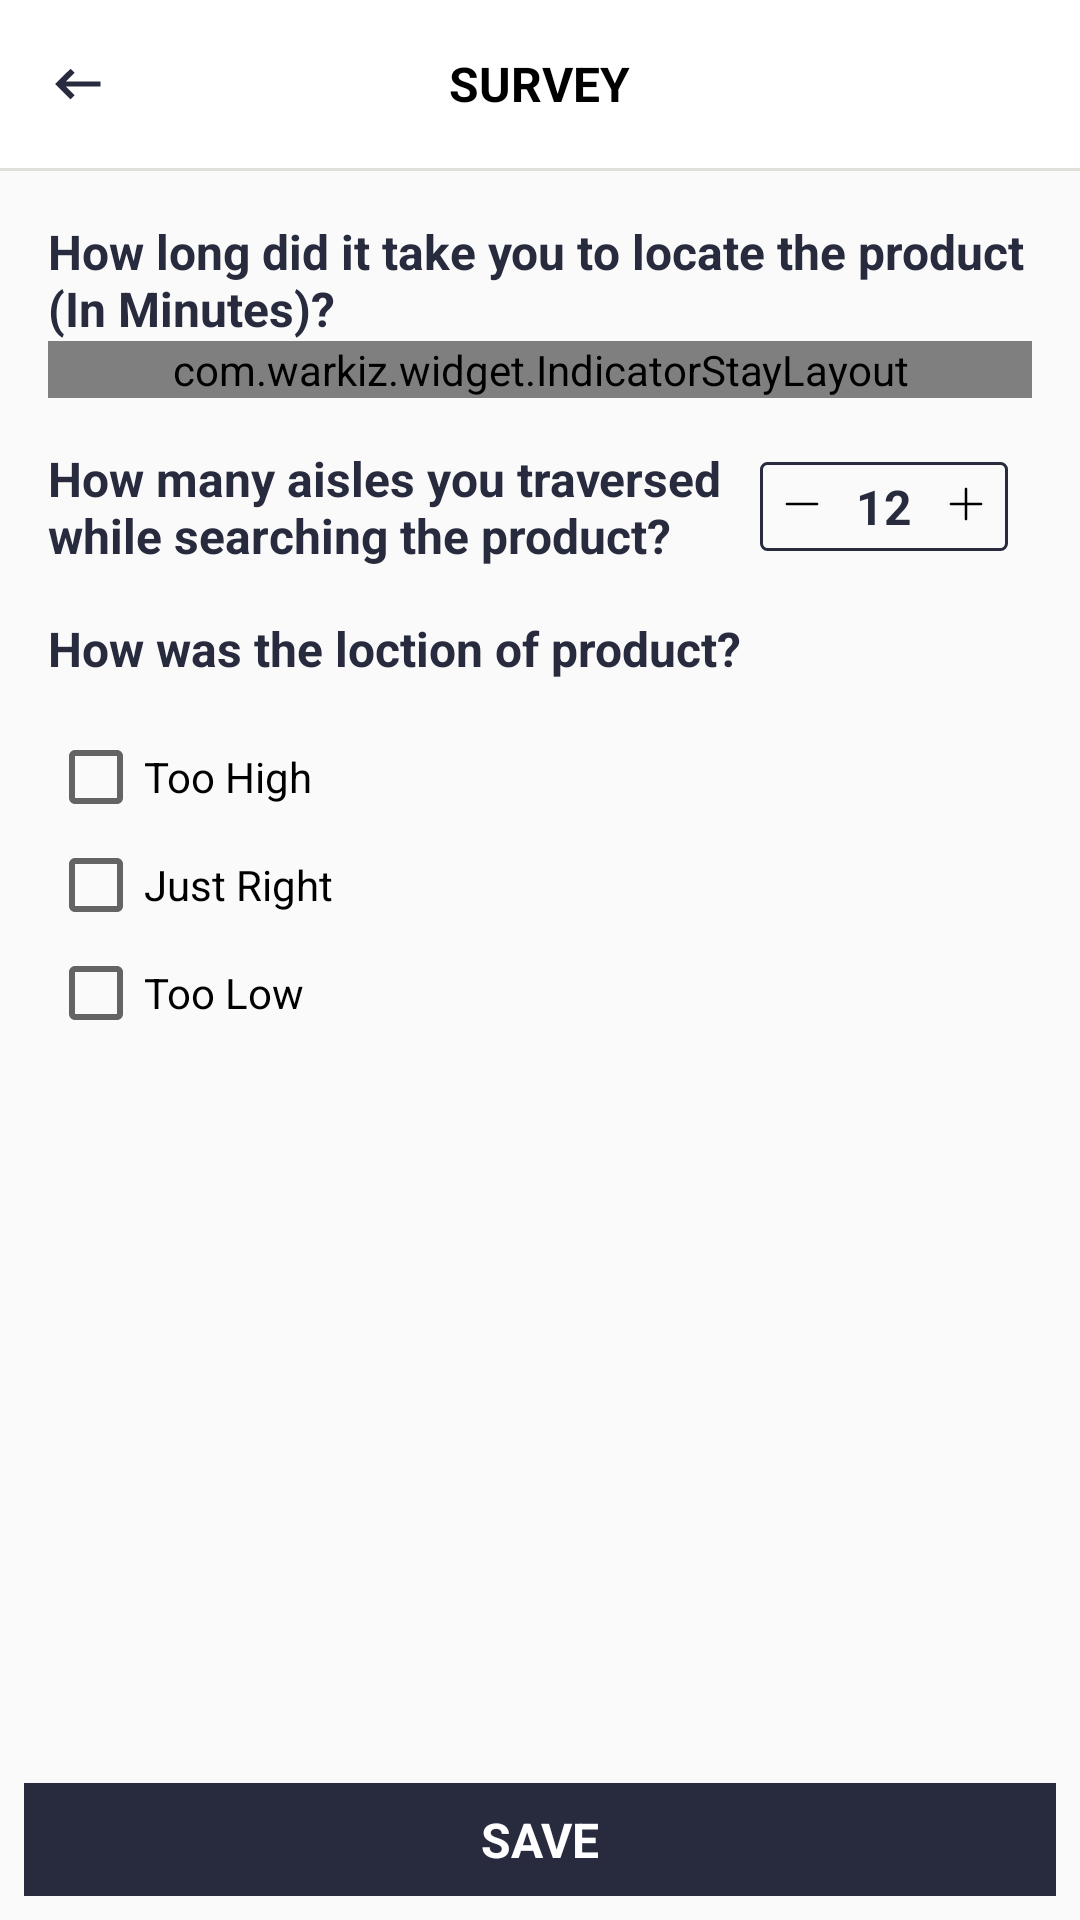

Locate icon controls on the screen. Image size 1080 × 1920, boxes as (x1, y1, x2, y2).
arrow back: (55, 69, 101, 100)
plus: (949, 487, 983, 521)
